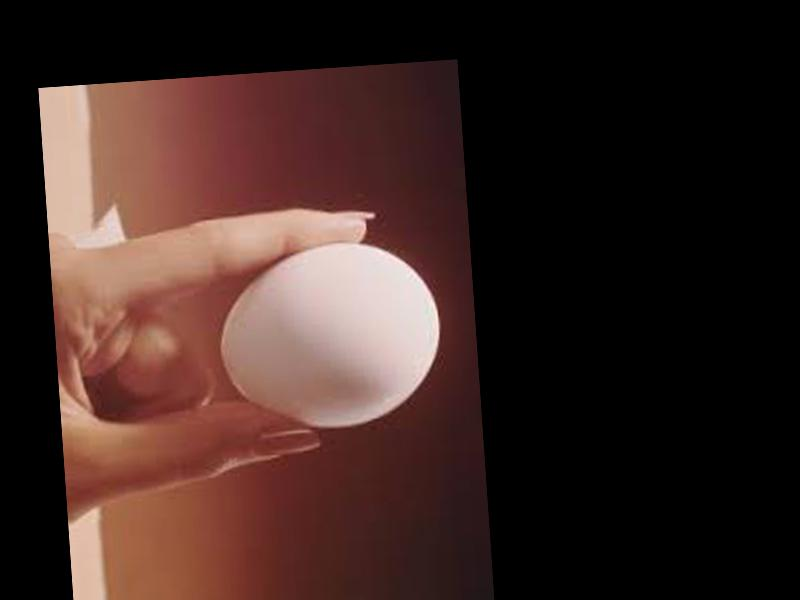Eggs: (213, 234, 446, 436)
